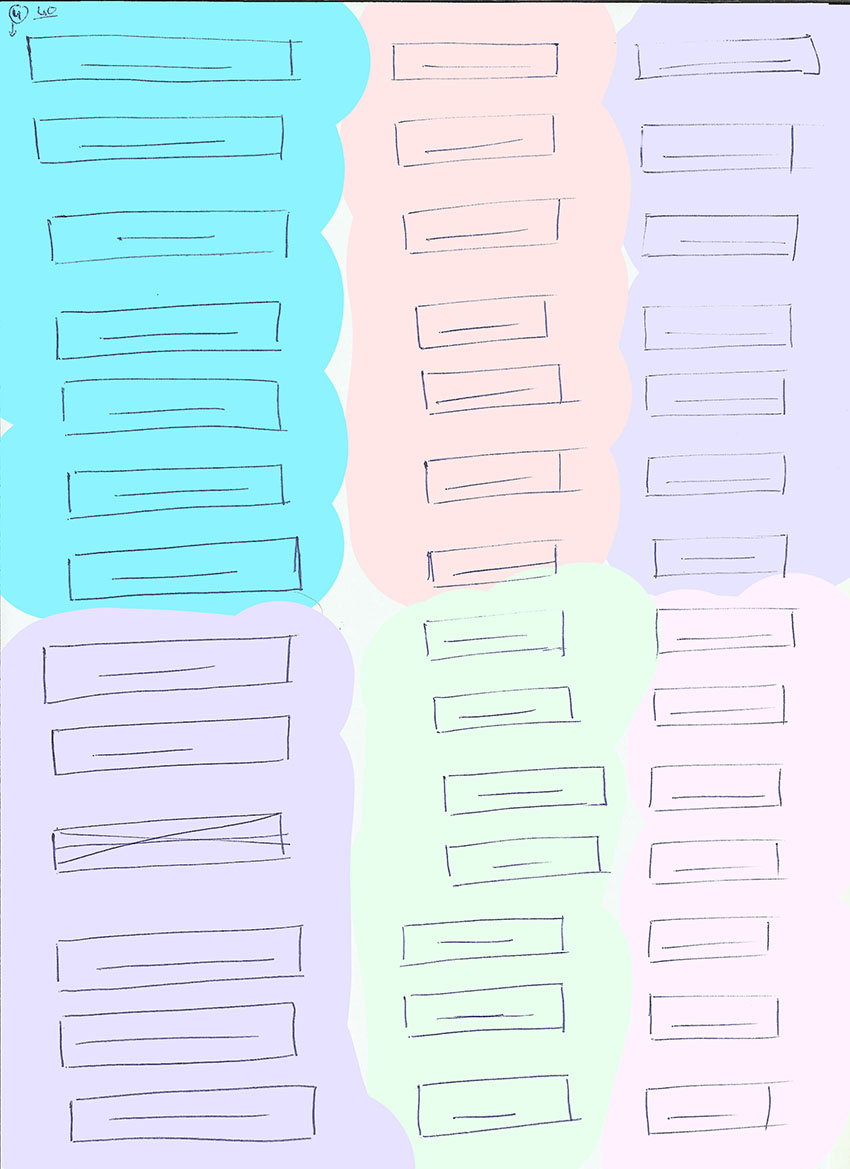edit_text: (39, 631, 296, 705), (51, 923, 311, 994), (56, 1000, 300, 1071), (23, 30, 302, 87), (46, 713, 293, 777), (63, 536, 302, 602), (66, 1083, 320, 1144), (52, 298, 289, 362), (43, 206, 291, 267), (58, 374, 291, 437), (29, 111, 287, 166), (64, 462, 292, 518), (414, 1072, 583, 1143), (637, 117, 830, 175), (400, 193, 576, 256), (630, 31, 824, 88), (420, 443, 591, 506), (400, 980, 569, 1040), (389, 110, 560, 169), (399, 912, 569, 969), (641, 1075, 793, 1137), (439, 763, 610, 818), (442, 834, 614, 888), (417, 362, 583, 417), (417, 605, 571, 663), (411, 292, 557, 352), (638, 300, 798, 353), (430, 683, 583, 738), (651, 603, 800, 659), (641, 365, 792, 419), (638, 212, 802, 261), (387, 38, 561, 83), (643, 450, 791, 502), (646, 836, 795, 886), (646, 762, 786, 815), (424, 537, 569, 588), (644, 913, 781, 966), (645, 991, 785, 1042), (649, 533, 791, 583), (649, 680, 789, 730)
